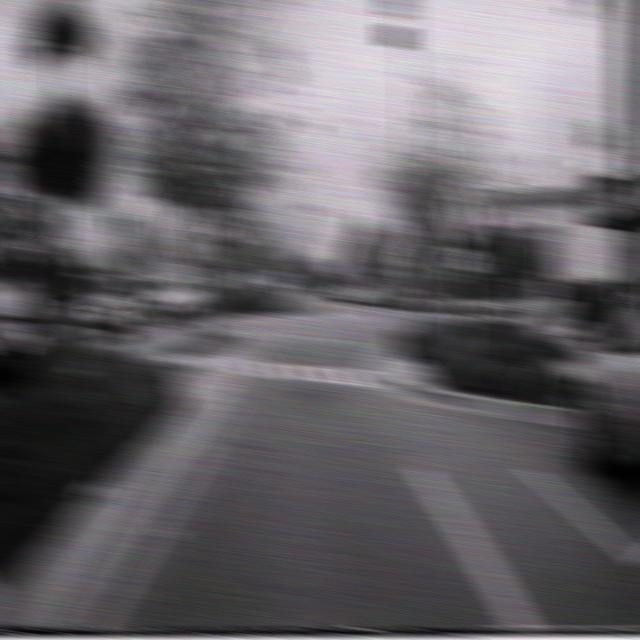pedestrianCrossing: (439, 179, 485, 248)
yield: (251, 206, 278, 234)
